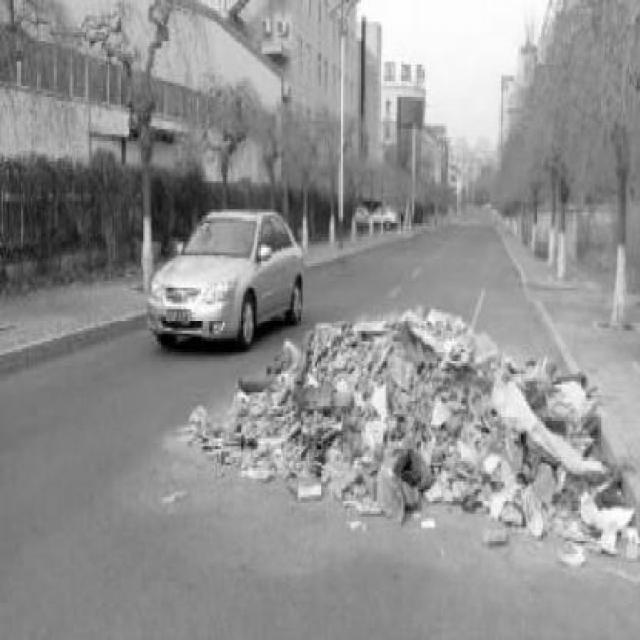garbage: (197, 307, 638, 543)
